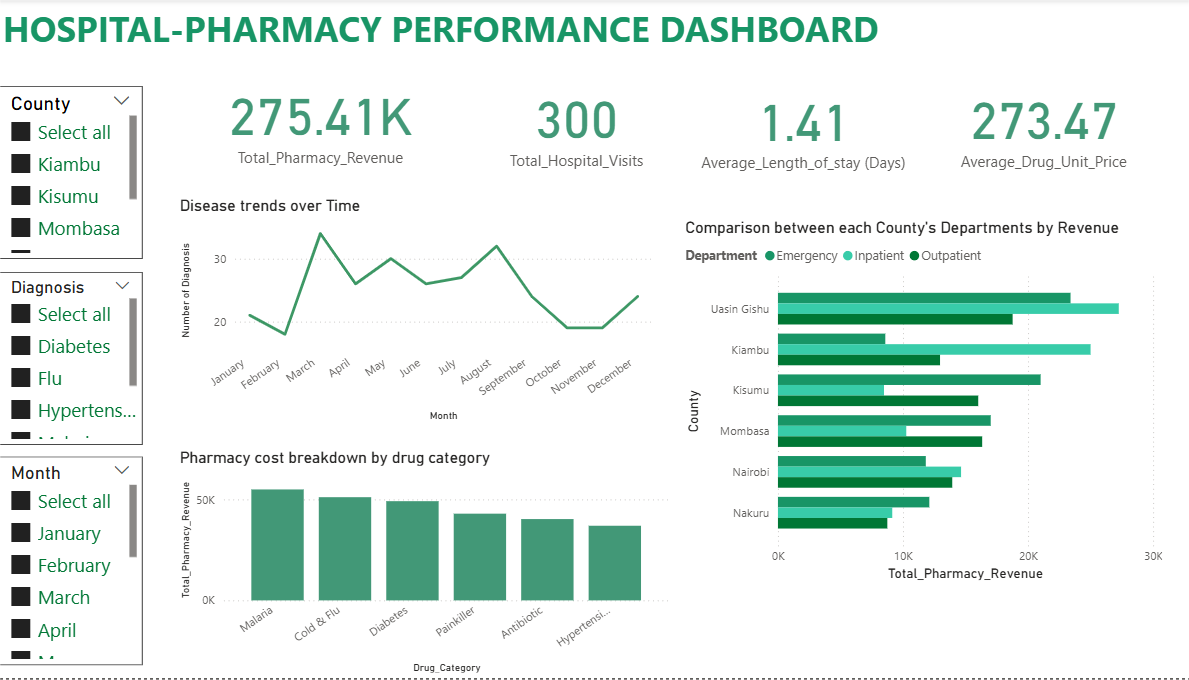

What the dashboard file says about the page in this screenshot:
{"tool":"powerbi","page":{"name":"Dashboard","canvas":[1280,720],"ordinal":3},"visuals":[{"type":"textbox","box":[0,0,1173.6,73.7],"z":0},{"type":"slicer","fields":{"Values":["Patients.County"]},"box":[0,92.6,153.1,183.3],"z":1000},{"type":"slicer","fields":{"Values":["Visits.Diagnosis"]},"box":[0,289.1,153.1,183.3],"z":2000},{"type":"slicer","fields":{"Values":["Visits.Visit_Date.Variation.Date Hierarchy.Month"]},"box":[0,485.7,153.1,221.1],"z":3000},{"type":"card","fields":{"Values":["Pharmacy_Transactions.Total_Pharmacy_Revenue"]},"box":[207.9,73.7,266.5,111.5],"z":4000},{"type":"card","fields":{"Values":["Pharmacy_Transactions.Total_Visits"]},"box":[502.7,77.5,221.1,107.7],"z":5000},{"type":"card","fields":{"Values":["Pharmacy_Transactions.Average_Length_of_stay"]},"box":[716.2,77.5,275.9,113.4],"z":6000},{"type":"lineChart","title":"Disease trends over Time","fields":{"Category":["Visits.Visit_Date.Variation.Date Hierarchy.Month"],"Y":["CountNonNull(Visits.Diagnosis)"]},"box":[187.1,207.9,510.2,243.8],"z":7000},{"type":"clusteredColumnChart","title":"Pharmacy cost breakdown by drug category","fields":{"Y":["Pharmacy_Transactions.Total_Pharmacy_Revenue"],"Category":["Pharmacy_Transactions.Drug_Category"]},"box":[187.1,476.2,529.1,243.8],"z":8000},{"type":"clusteredBarChart","title":"Comparison between each County''s Departments by Revenue","fields":{"Category":["Patients.County"],"Series":["Visits.Department"],"Y":["Pharmacy_Transactions.Total_Pharmacy_Revenue"]},"box":[723.8,232.4,515.9,389.3],"z":9000},{"type":"card","fields":{"Values":["Pharmacy_Transactions.Average_Drug_Unit_Price"]},"box":[982.7,75.6,251.3,113.4],"z":10000}]}

Visuals, with their boxes in screenshot pixels (x1, y1, x2, y2), scaled from the page's 1280x720 canvas onto the 1189x680 screenshot:
textbox: bbox=[0, 0, 1090, 70]
slicer - Patients.County: bbox=[0, 87, 142, 261]
slicer - Visits.Diagnosis: bbox=[0, 273, 142, 446]
slicer - Visits.Visit_Date.Variation.Date Hierarchy.Month: bbox=[0, 459, 142, 668]
card - Pharmacy_Transactions.Total_Pharmacy_Revenue: bbox=[193, 70, 441, 175]
card - Pharmacy_Transactions.Total_Visits: bbox=[467, 73, 672, 175]
card - Pharmacy_Transactions.Average_Length_of_stay: bbox=[665, 73, 922, 180]
"Disease trends over Time" lineChart: bbox=[174, 196, 648, 427]
"Pharmacy cost breakdown by drug category" clusteredColumnChart: bbox=[174, 450, 665, 679]
"Comparison between each County''s Departments by Revenue" clusteredBarChart: bbox=[672, 219, 1152, 587]
card - Pharmacy_Transactions.Average_Drug_Unit_Price: bbox=[913, 71, 1146, 178]
